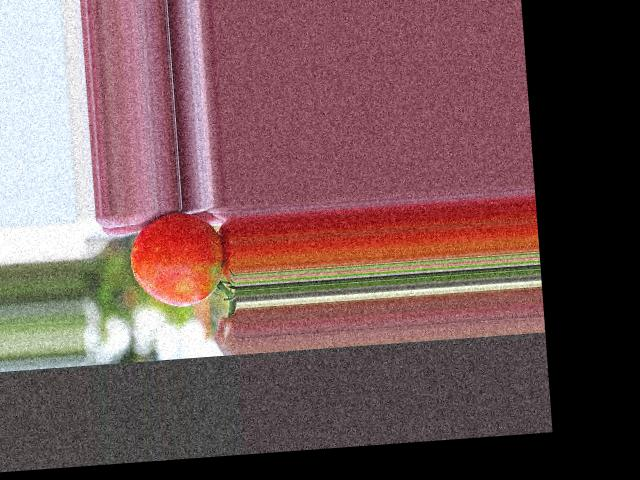tomato: (127, 210, 225, 309)
